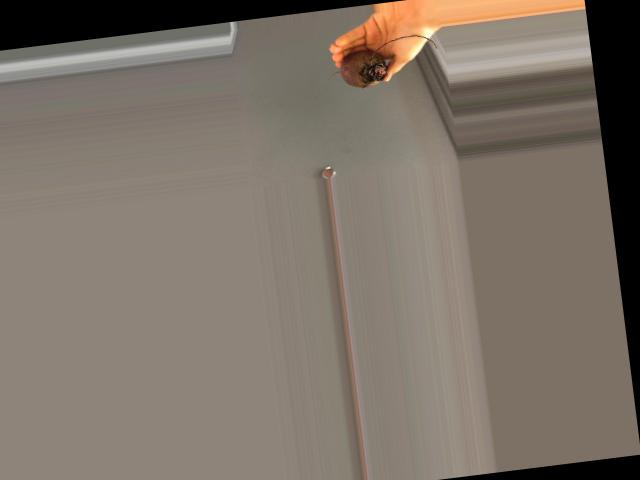beet: (324, 31, 439, 91)
